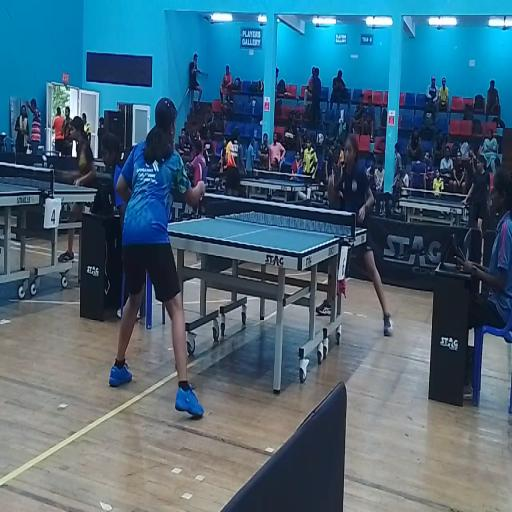ball: (299, 191, 308, 206)
